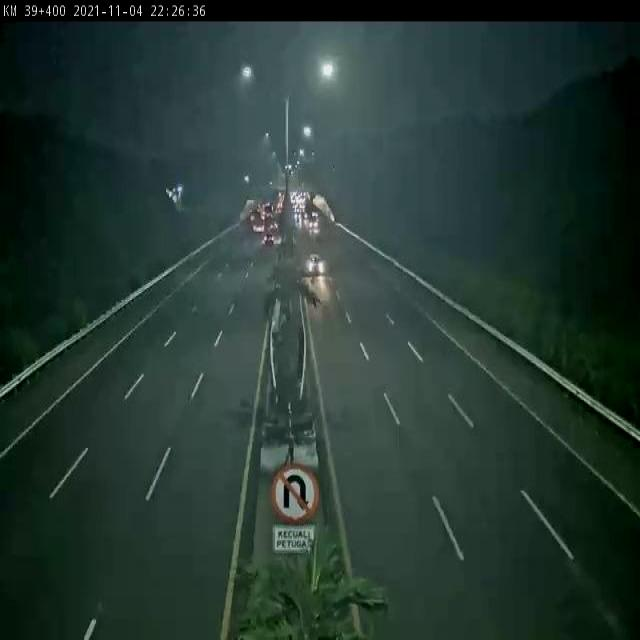Car: (301, 250, 323, 286), (264, 230, 274, 246)
